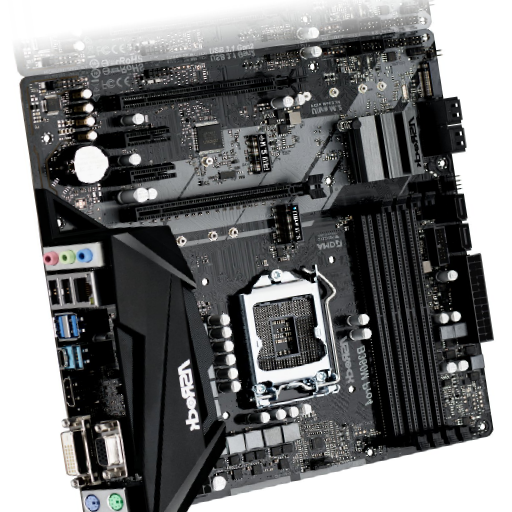CPU: (239, 270, 341, 410)
GPU: (120, 171, 327, 222), (104, 67, 313, 111)
MOTHERBOARD: (21, 30, 495, 512)
RAM: (346, 187, 474, 451)
SSD: (274, 205, 304, 246), (248, 132, 270, 174)
